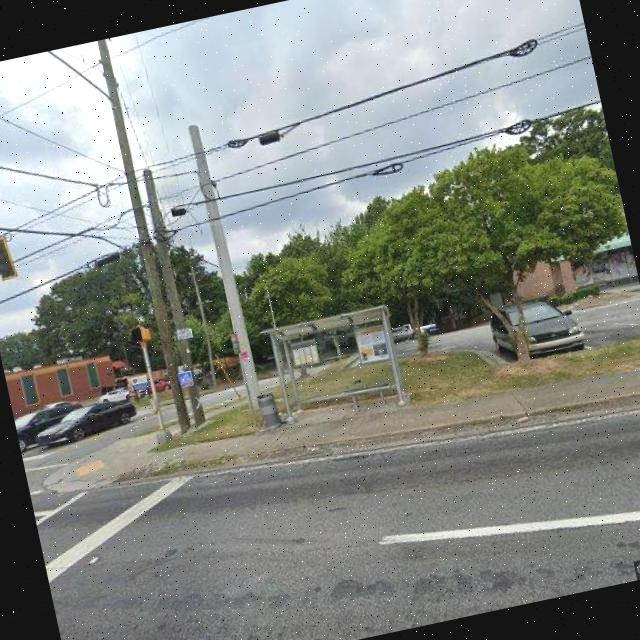seating: (340, 379, 394, 414)
shelter: (258, 302, 410, 432)
trash_can: (255, 392, 281, 432)
